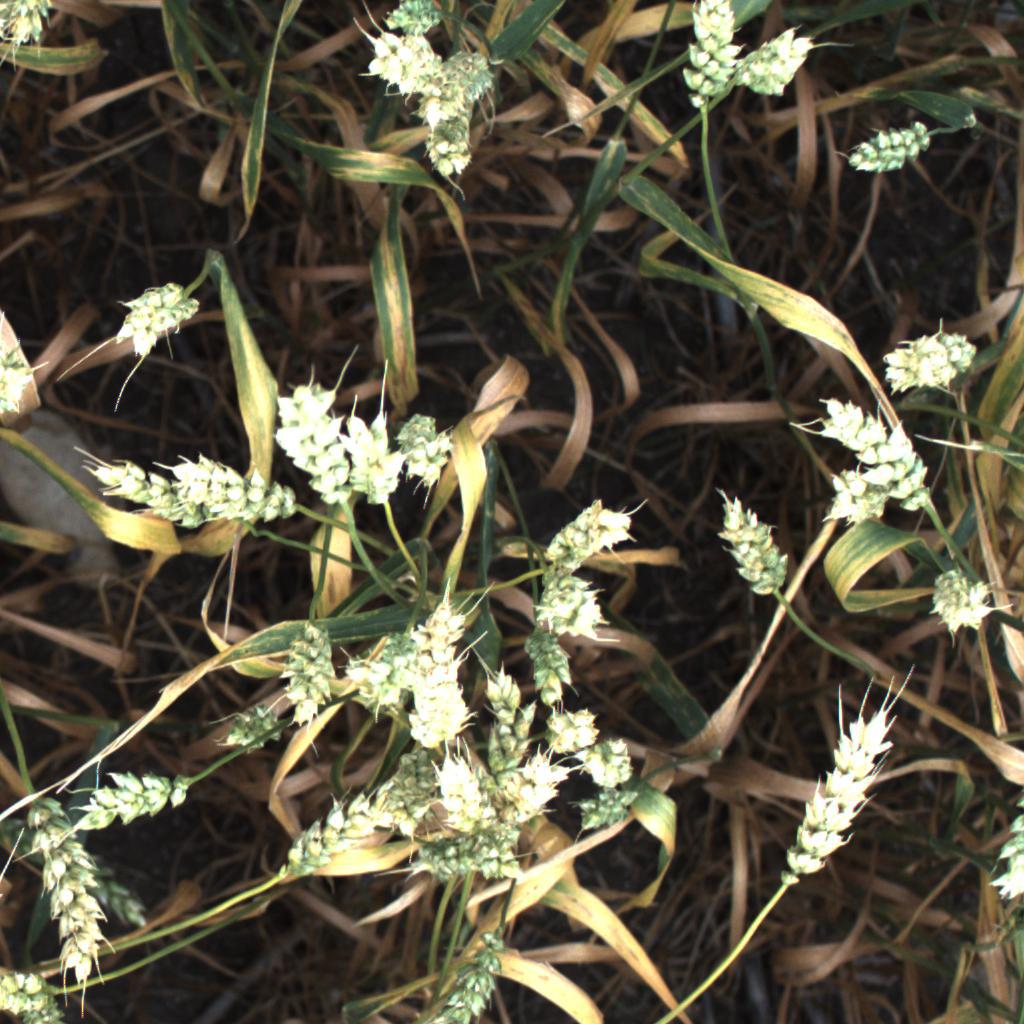0-0: (767, 690, 901, 894), (17, 790, 123, 998), (272, 766, 443, 884), (801, 391, 943, 519), (147, 433, 302, 539), (261, 371, 360, 514), (70, 443, 221, 536), (53, 758, 204, 838), (418, 44, 499, 189), (408, 591, 472, 766), (94, 269, 210, 365), (707, 488, 796, 608), (670, 0, 759, 119), (528, 488, 638, 581), (720, 13, 820, 109), (339, 622, 437, 717), (912, 552, 1005, 652), (838, 104, 945, 190), (268, 612, 344, 732), (338, 395, 410, 518), (414, 936, 514, 1024), (873, 321, 982, 399), (358, 23, 458, 107), (518, 562, 615, 648), (409, 820, 528, 885), (479, 655, 540, 780), (431, 740, 500, 838), (494, 754, 575, 836), (211, 680, 295, 756), (515, 613, 578, 709), (817, 465, 904, 531), (566, 785, 656, 844), (402, 408, 459, 498), (0, 952, 67, 1024), (0, 335, 52, 425), (986, 791, 1024, 913), (570, 732, 643, 790), (534, 704, 607, 758), (0, 0, 64, 61), (380, 0, 449, 37)
